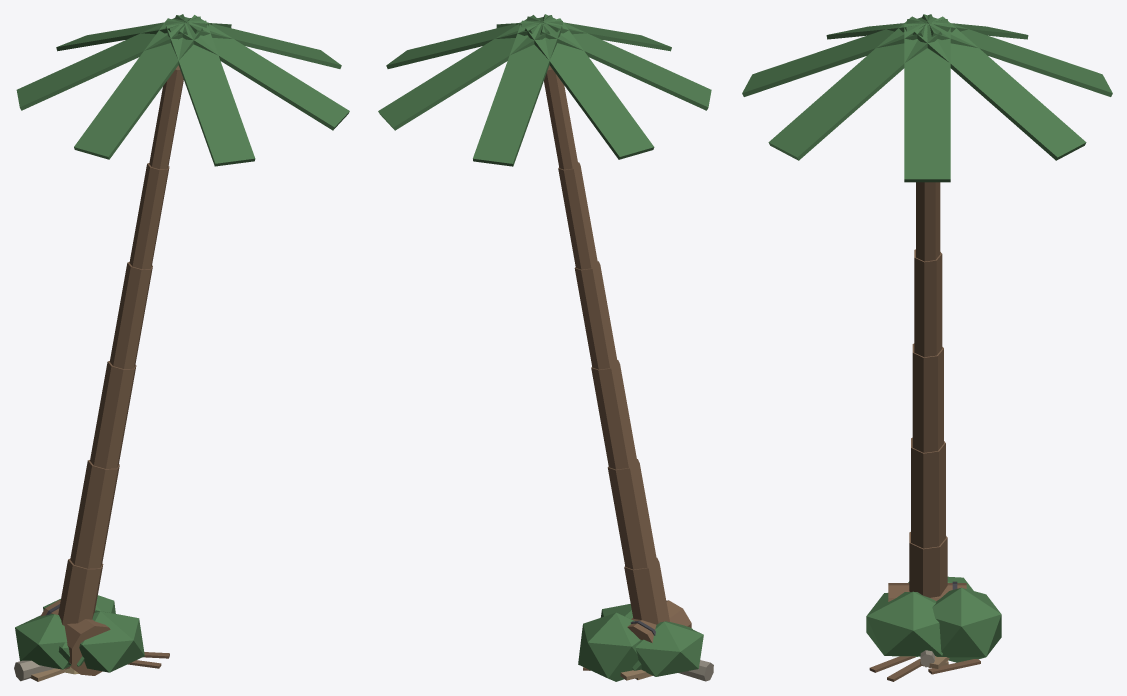
The model's file is props.glb.
3 views of the same model, side by side, from view 1: azimuth 30°, elevation 25°; view 2: azimuth 150°, elevation 25°; view 3: azimuth 270°, elevation 25° (orthographic). The views are drawn at different scales.
Visible parts, largest first — view 1: Frond_495, Frond_494, Frond_496, Frond_493, Trunk_485, Trunk_486, Leaves_p31, Trunk_487, Trunk_488, Leaves_p28, Trunk_484, Trunk_489 (+3 smaller); view 2: Frond_492, Frond_493, Frond_491, Frond_494, Trunk_485, Leaves_p30, Trunk_486, Leaves_p28, Trunk_487, Trunk_488, Trunk_484, Trunk_489 (+3 smaller); view 3: Frond_490, Frond_491, Frond_496, Leaves_p31, Leaves_p30, Trunk_485, Frond_492, Frond_495, Trunk_486, Trunk_487, Trunk_484, Trunk_488 (+2 smaller).
Boxes of the visible parts, <box> form: Frond_495: <box>165,20,255,166</box>; Frond_494: <box>74,18,203,159</box>; Frond_496: <box>178,15,349,130</box>; Frond_493: <box>16,14,187,110</box>; Trunk_485: <box>70,460,119,568</box>; Trunk_486: <box>90,361,136,468</box>; Leaves_p31: <box>79,610,144,672</box>; Trunk_487: <box>109,262,152,368</box>; Trunk_488: <box>129,163,169,269</box>; Leaves_p28: <box>15,614,70,669</box>; Trunk_484: <box>58,559,103,669</box>; Trunk_489: <box>149,65,183,169</box>; Frond_492: <box>473,20,562,166</box>; Frond_493: <box>525,18,654,159</box>; Frond_491: <box>378,15,549,130</box>; Frond_494: <box>540,14,711,110</box>; Trunk_485: <box>607,459,657,569</box>; Leaves_p30: <box>578,612,640,681</box>; Trunk_486: <box>591,360,637,469</box>; Leaves_p28: <box>635,621,703,676</box>; Trunk_487: <box>574,261,617,369</box>; Trunk_488: <box>558,162,598,269</box>; Trunk_484: <box>624,558,669,624</box>; Trunk_489: <box>544,65,578,169</box>; Frond_490: <box>904,24,950,182</box>; Frond_491: <box>912,16,1086,160</box>; Frond_496: <box>768,16,942,160</box>; Leaves_p31: <box>866,591,942,656</box>; Leaves_p30: <box>932,587,1001,662</box>; Trunk_485: <box>911,437,945,548</box>; Frond_492: <box>922,14,1112,96</box>; Frond_495: <box>742,14,932,96</box>; Trunk_486: <box>912,343,943,452</box>; Trunk_487: <box>914,249,942,357</box>; Trunk_484: <box>909,532,947,597</box>; Trunk_488: <box>916,182,940,261</box>.
Size of the model in its own units: 4.31 by 8.24 by 4.03.
